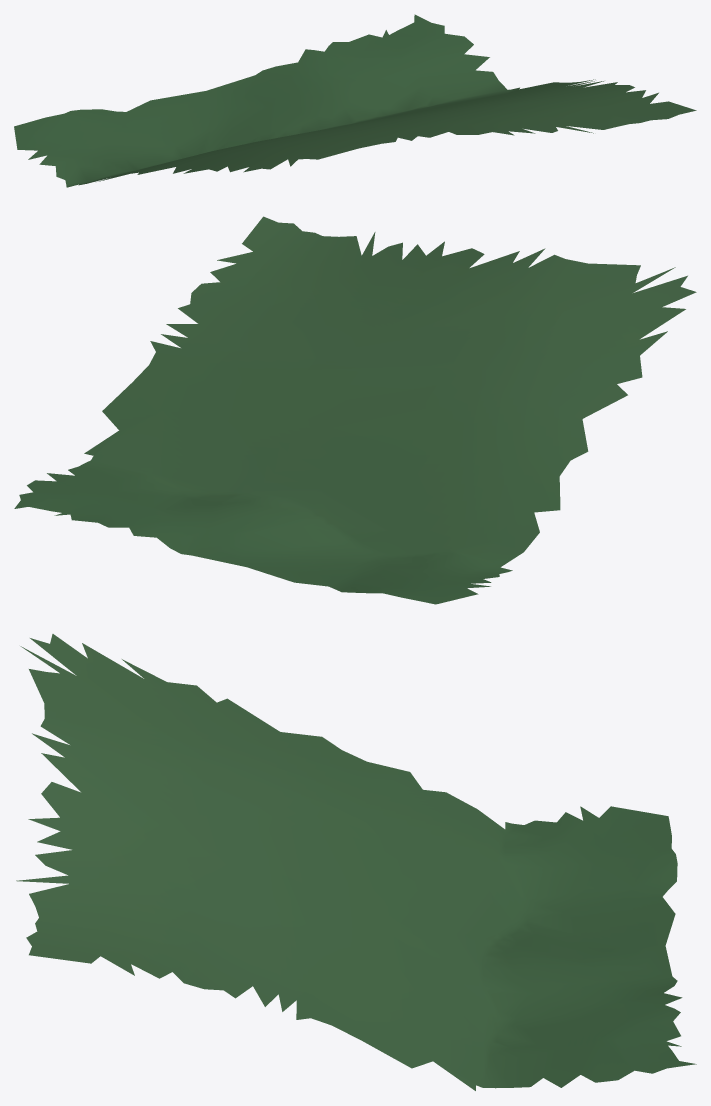
File: payo_land_x3_y9_lod1.glb
3 views of the same model, one above another, from view 1: azimuth 30°, elevation 25°; view 2: azimuth 150°, elevation 25°; view 3: azimuth 270°, elevation 25° (orthographic). The views are drawn at different scales.
Visible parts, largest first — view 1: payo_land_x3_y9; view 2: payo_land_x3_y9; view 3: payo_land_x3_y9.
Boxes of the visible parts, left/top/right/bottom form: payo_land_x3_y9: left=14, top=14, right=696, bottom=187; payo_land_x3_y9: left=14, top=216, right=696, bottom=604; payo_land_x3_y9: left=16, top=634, right=696, bottom=1090.
Bounding box in the file's own units: 273 × 93.68 × 280.
